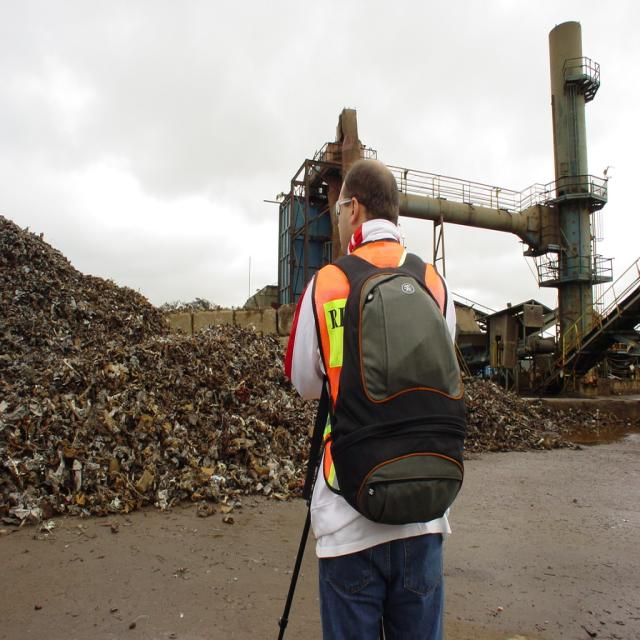backpack: (312, 248, 467, 520)
